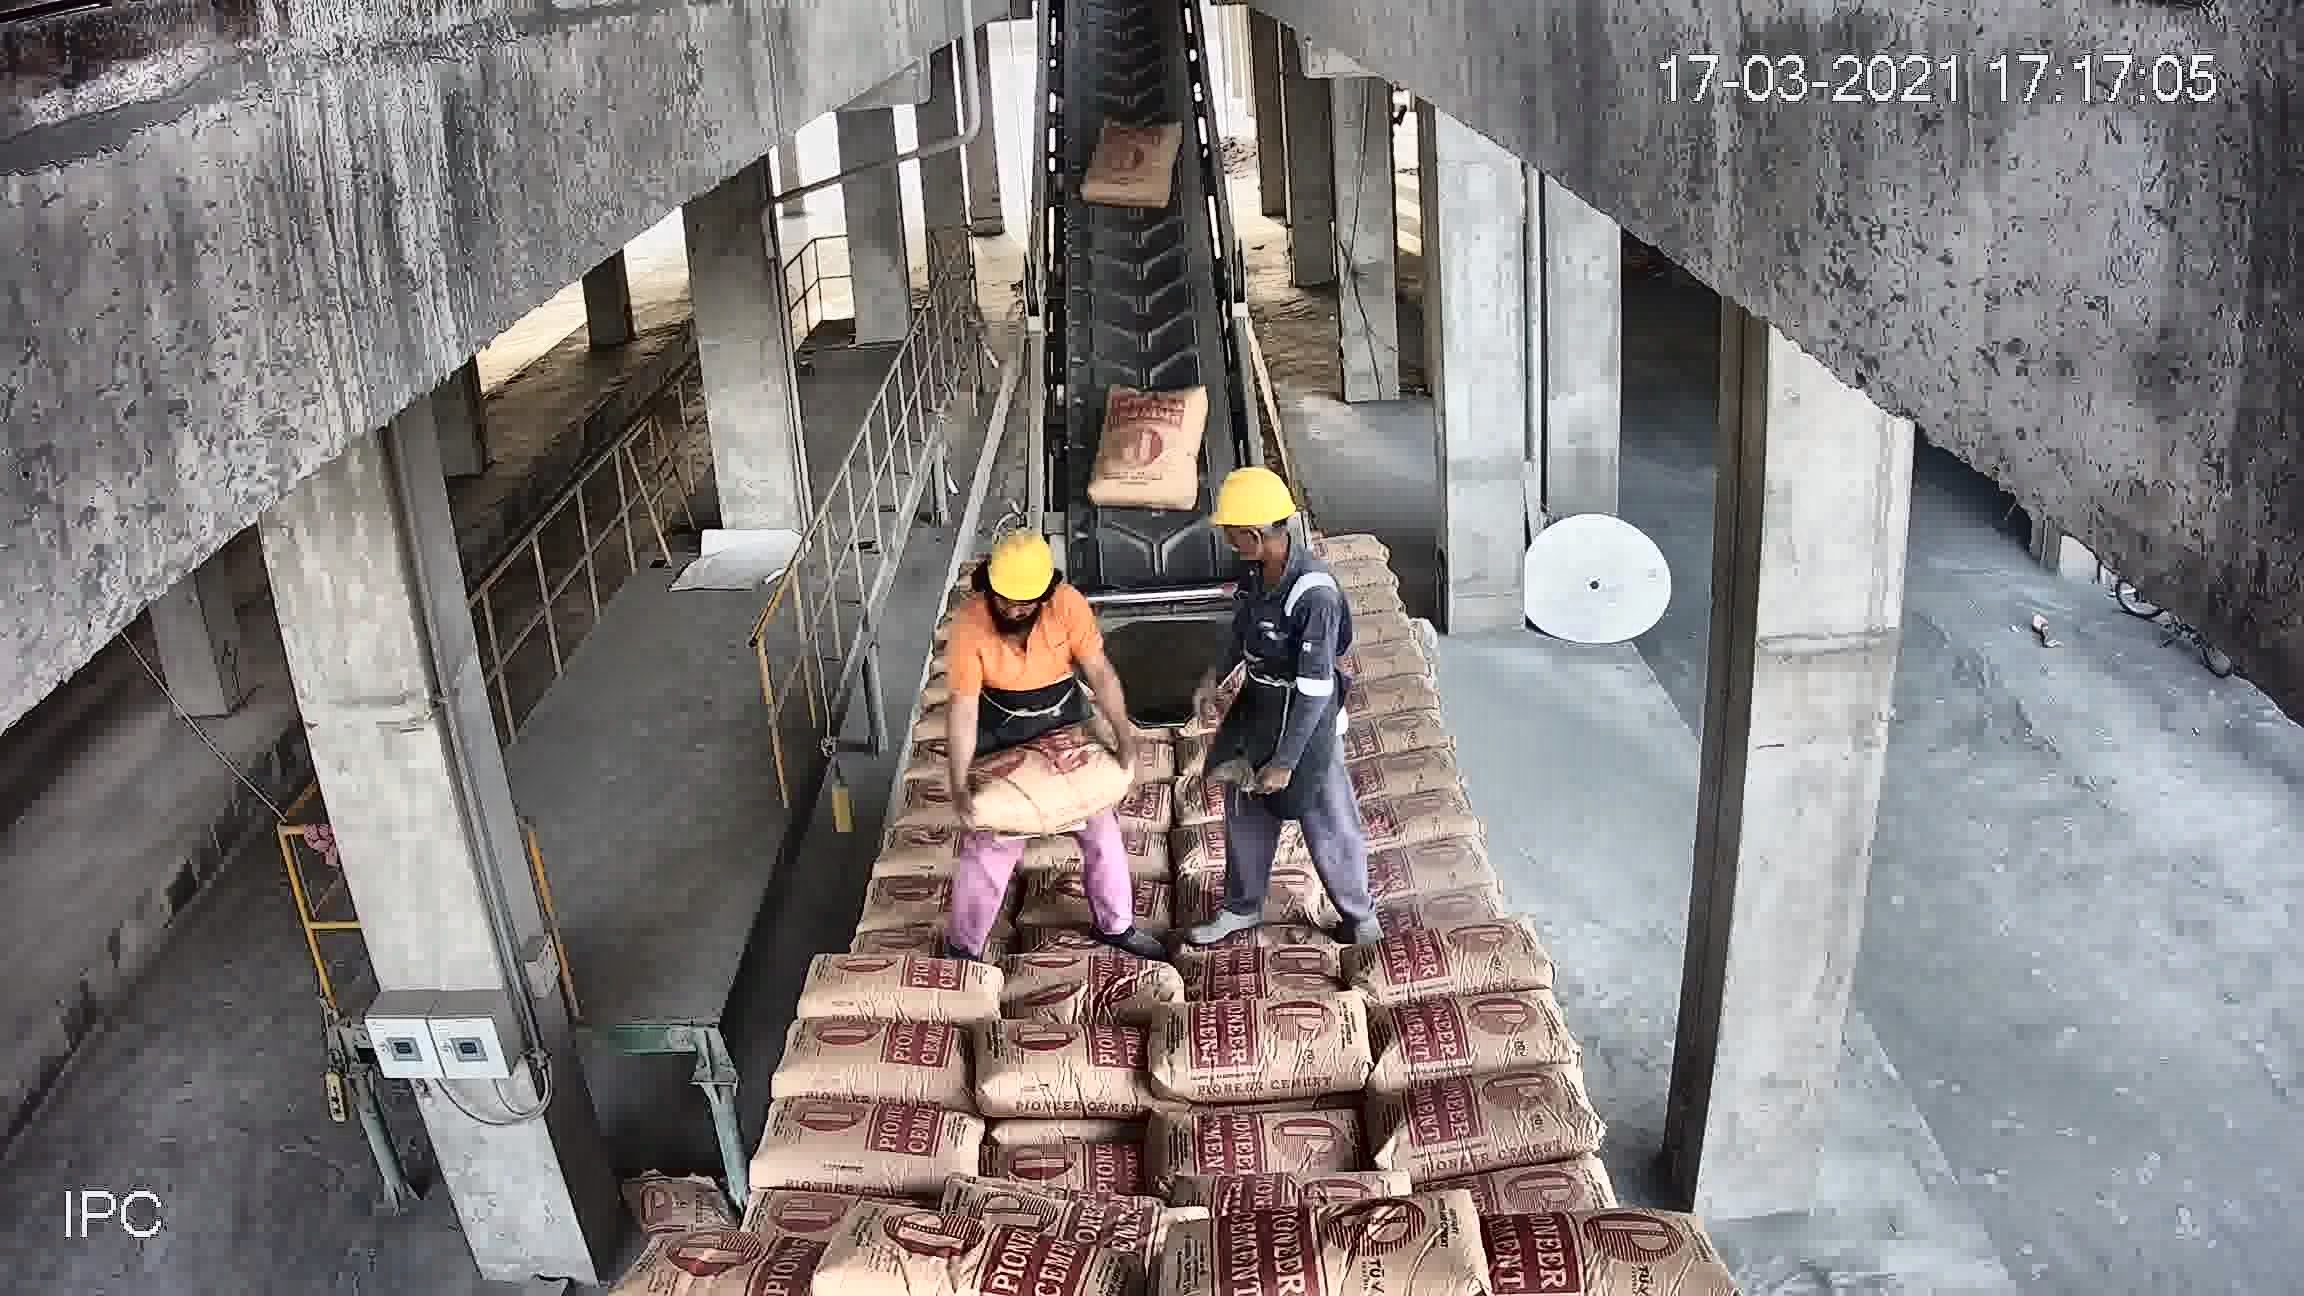bag: (1081, 119, 1184, 222)
bag_h: (1199, 1207, 1516, 1294), (812, 1207, 1125, 1294), (1362, 1067, 1608, 1169), (1366, 983, 1571, 1100), (1168, 995, 1385, 1106), (756, 1100, 983, 1198), (1457, 1203, 1703, 1291), (1348, 916, 1544, 1016), (1146, 1098, 1370, 1185), (961, 723, 1131, 832), (1416, 1135, 1612, 1230), (767, 1014, 984, 1100), (975, 1022, 1149, 1124), (801, 949, 994, 1029), (642, 1226, 839, 1296), (1005, 945, 1179, 1016), (1361, 824, 1497, 908), (1179, 926, 1348, 991), (1374, 878, 1524, 942), (987, 1141, 1160, 1195), (1356, 790, 1476, 866), (1340, 737, 1464, 809), (1331, 703, 1445, 760), (855, 869, 961, 926), (1334, 673, 1442, 718), (1337, 633, 1424, 677)
bag_v: (1093, 380, 1206, 506)
belt: (1017, 33, 1268, 668)
